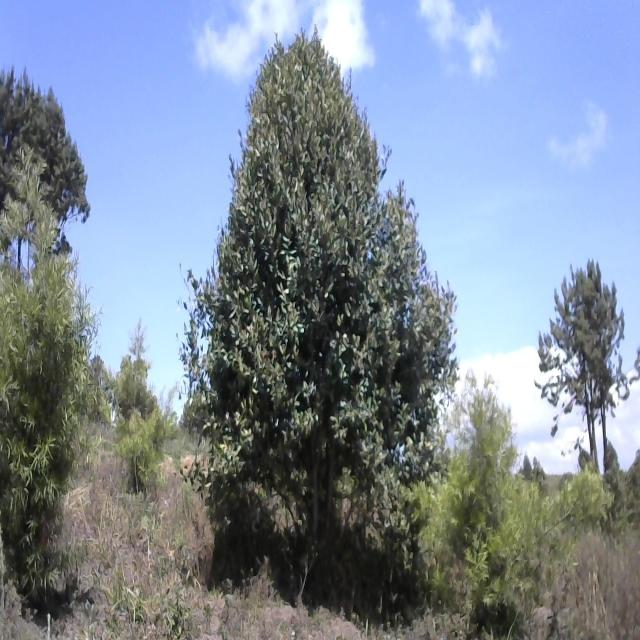Podocarpus falcatus: (0, 143, 105, 608), (422, 373, 598, 640), (104, 314, 164, 487)
Salix alba: (193, 25, 458, 526)
cedrus: (534, 253, 634, 454), (0, 65, 85, 258)
